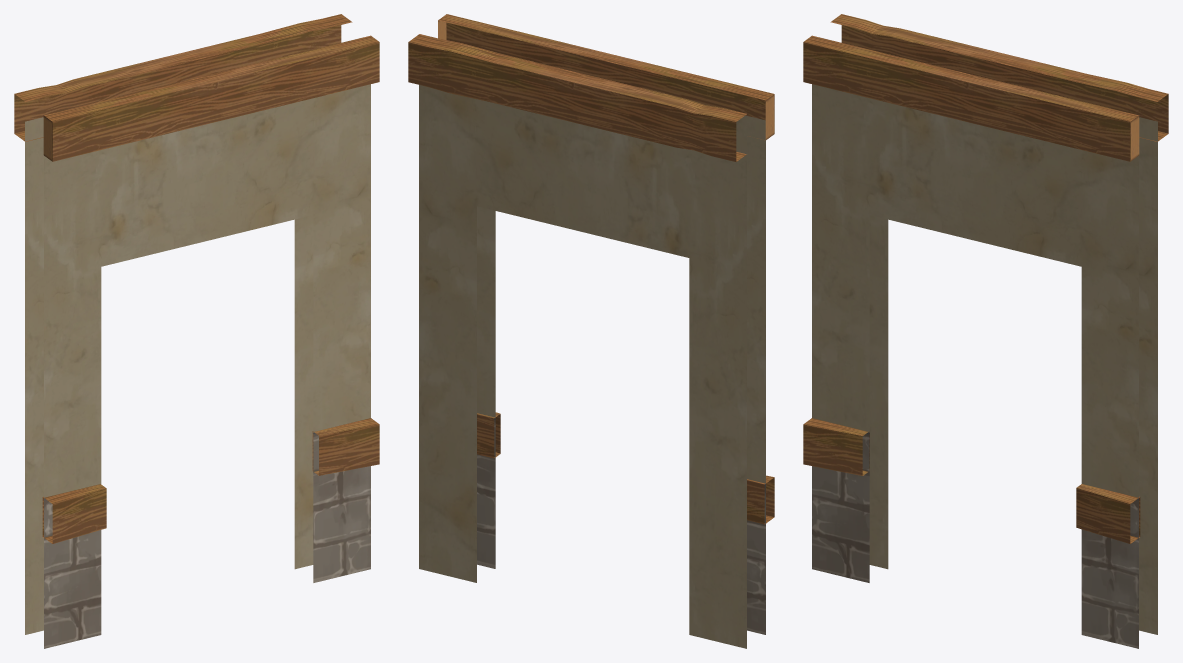
Rendered from Wall_Plaster_Door_Flat.gltf.
3 views of the same model, side by side, from view 1: azimuth 30°, elevation 25°; view 2: azimuth 150°, elevation 25°; view 3: azimuth 330°, elevation 25° (orthographic).
Visible parts, largest first — view 1: Wall_Plaster_Door_Flat; view 2: Wall_Plaster_Door_Flat; view 3: Wall_Plaster_Door_Flat.
Boxes of the visible parts, x1,y1,x2,y2 form: Wall_Plaster_Door_Flat: (14,14,379,648); Wall_Plaster_Door_Flat: (408,14,774,648); Wall_Plaster_Door_Flat: (803,14,1168,648).
Bounding box in the file's own units: 2 × 3.12 × 0.4065.
3 materials, 3 textured.
